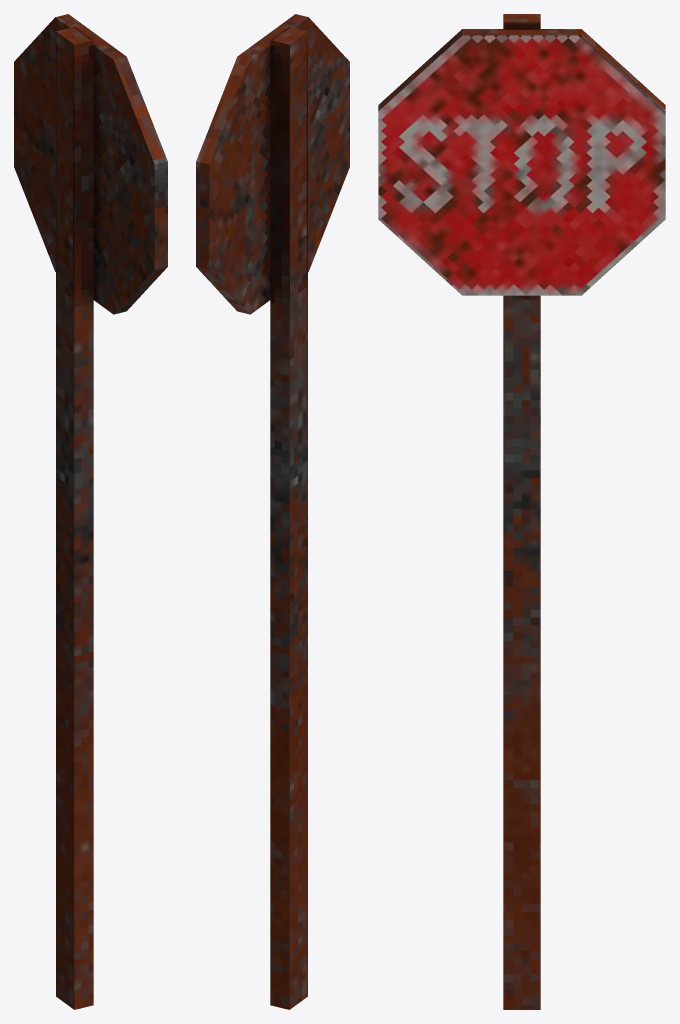
Rendered from stop_sign_psx.glb.
3 renders of one model, left to right at view 1: azimuth 30°, elevation 25°; view 2: azimuth 150°, elevation 25°; view 3: azimuth 270°, elevation 25°, orthographic. The views are drawn at different scales.
Parts seen in each view (by area): view 1: Cube; view 2: Cube; view 3: Cube.
Boxes of the visible parts, x1,y1,x2,y2 form: Cube: [14, 14, 167, 1009]; Cube: [196, 14, 349, 1009]; Cube: [378, 14, 665, 1009].
Bounding box in the file's own units: 0.2452 × 7 × 1.85.
Materials: 1 (1 with a texture image).
